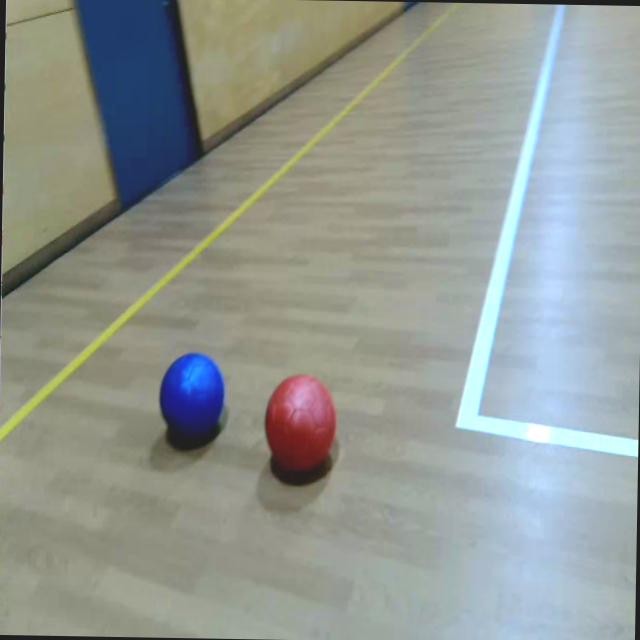blue_ball: (160, 353, 224, 438)
red_ball: (262, 372, 338, 468)
